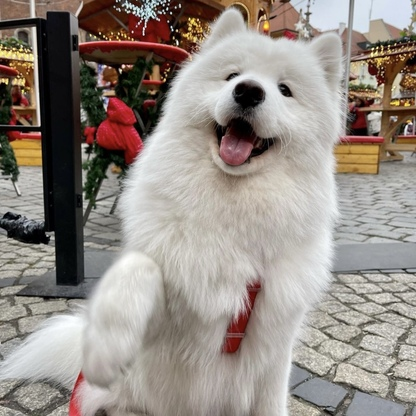samoyed: (1, 4, 350, 416)
